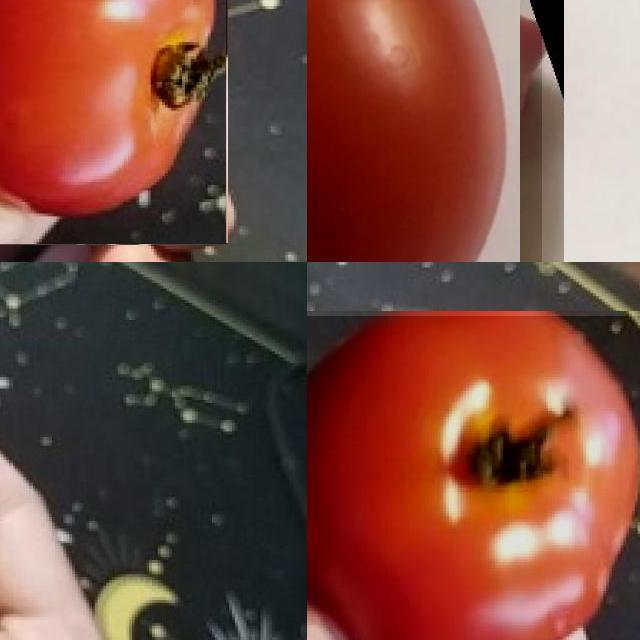Fresh Tomato: (307, 315, 640, 640), (307, 0, 542, 262), (0, 0, 227, 244)
